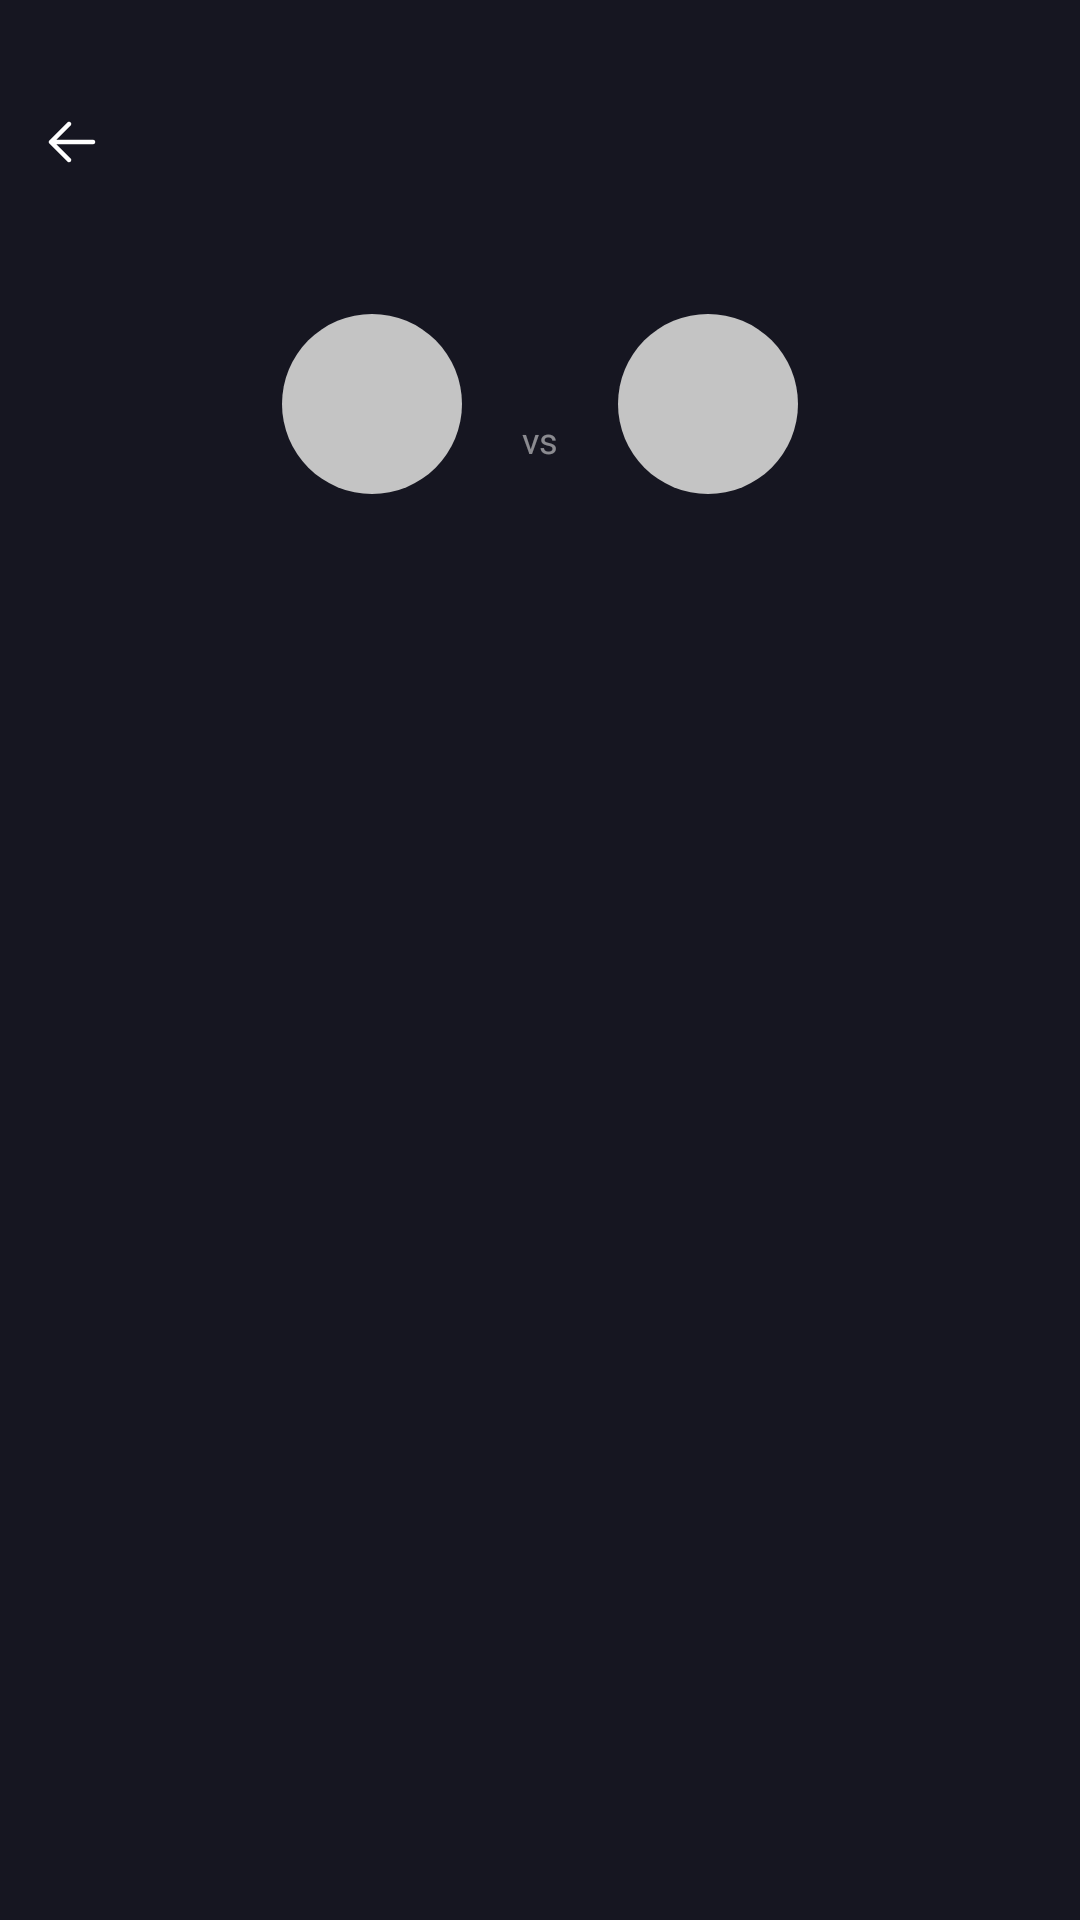

Point at icon controls on the screen. Image size 1080px x 1920px, points as (x=x, y=y).
arrow left: (x=72, y=142)
